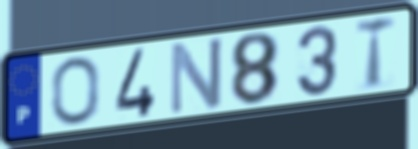3: (293, 23, 339, 98)
4: (114, 46, 158, 120)
8: (228, 29, 283, 108)
N: (167, 34, 225, 119)
O: (48, 55, 102, 127)
T: (354, 13, 398, 93)
